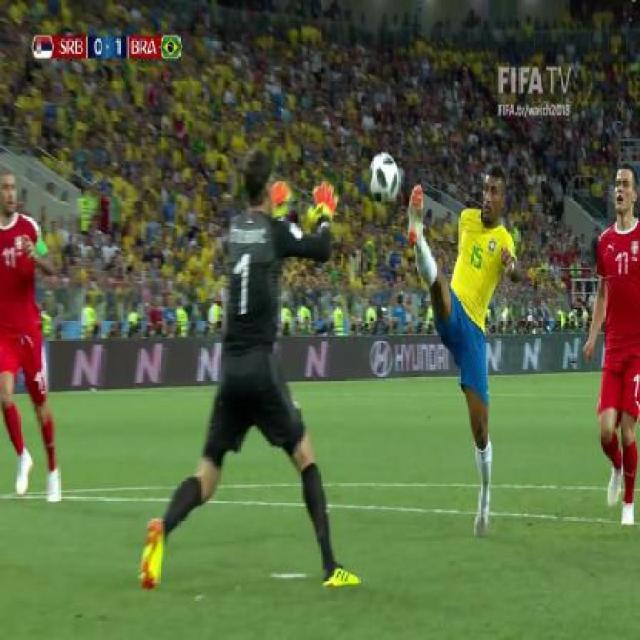ball: (366, 148, 402, 205)
player: (137, 150, 360, 593), (403, 152, 523, 537), (580, 162, 640, 527), (0, 165, 63, 510)
